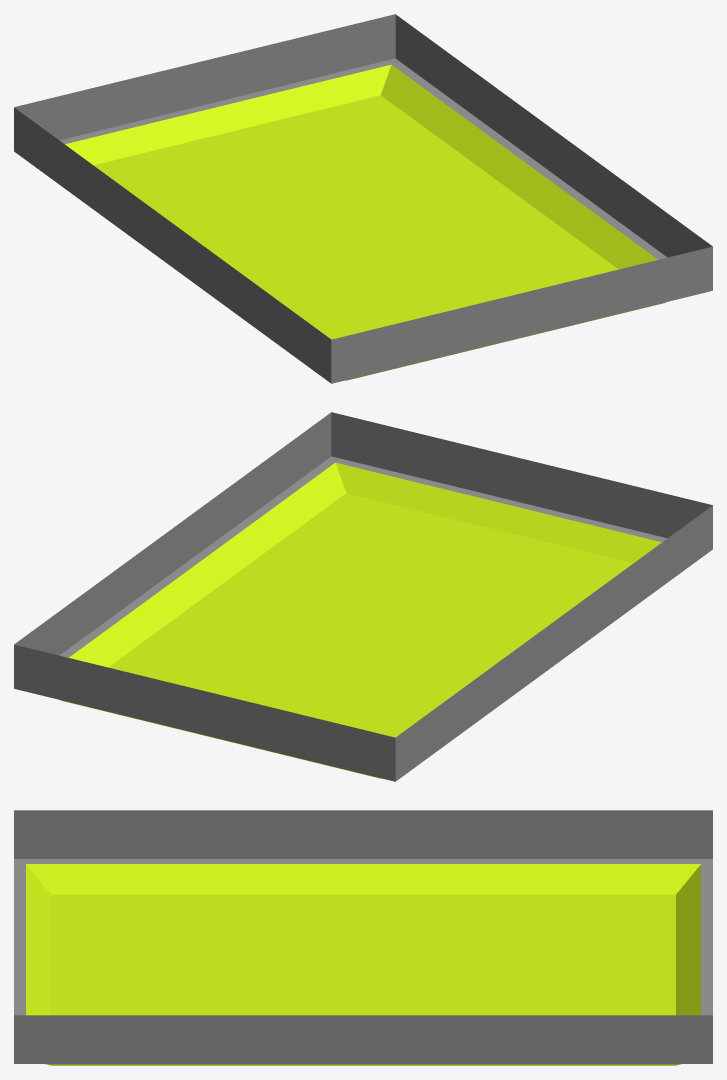
Rendered from light_holod.FBX.
The picture shows the model from 3 angles, top to bottom: view 1: azimuth 30°, elevation 25°; view 2: azimuth 150°, elevation 25°; view 3: azimuth 270°, elevation 25°; orthographic projection. The views are drawn at different scales.
Parts seen in each view (by area): view 1: holod_light_; view 2: holod_light_; view 3: holod_light_.
Boxes of the visible parts, x1,y1,x2,y2 form: holod_light_: (14,14,712,383); holod_light_: (14,412,712,781); holod_light_: (14,810,712,1065).
Bounding box in the file's own units: 81.76 × 12.51 × 118.
